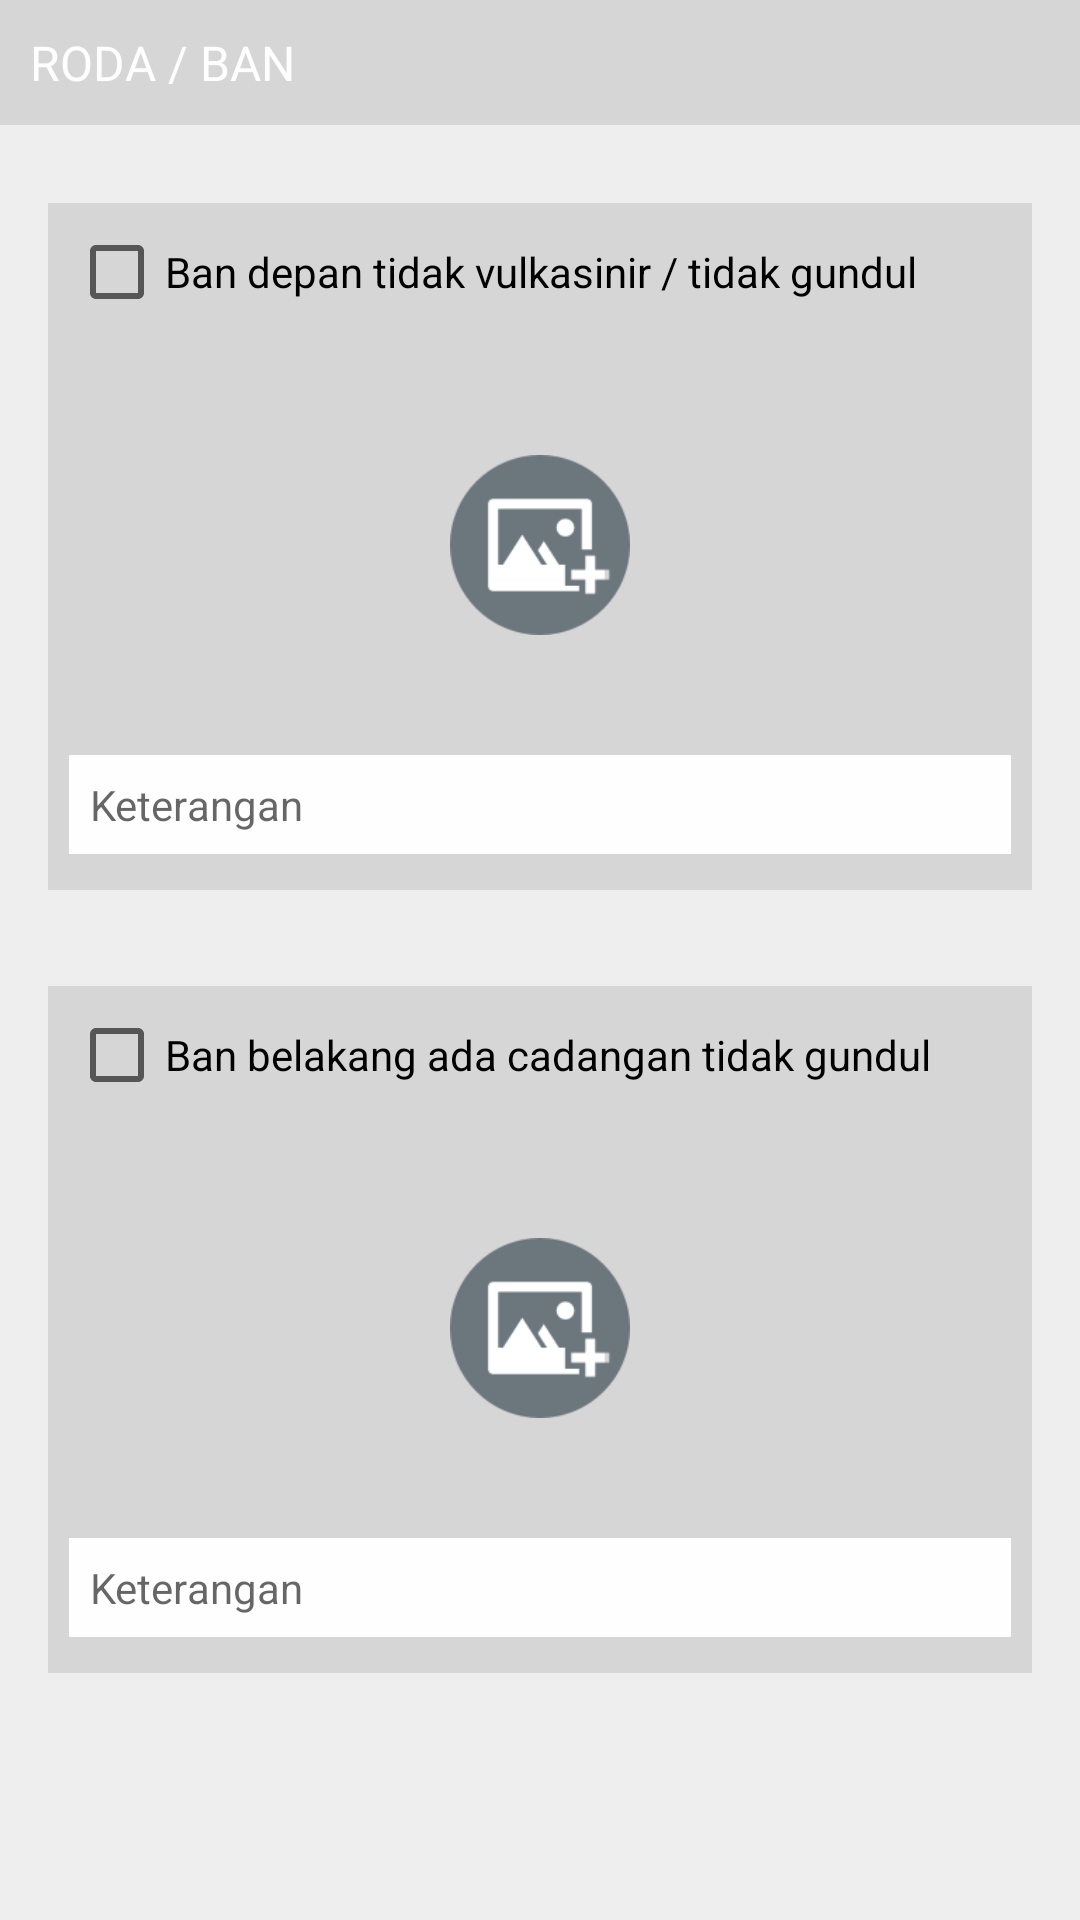

Where icons sit on this 1080w x 1920h app screen, as (x1, y1, x2, y2):
add: (450, 455, 630, 635), (450, 1238, 630, 1418)
